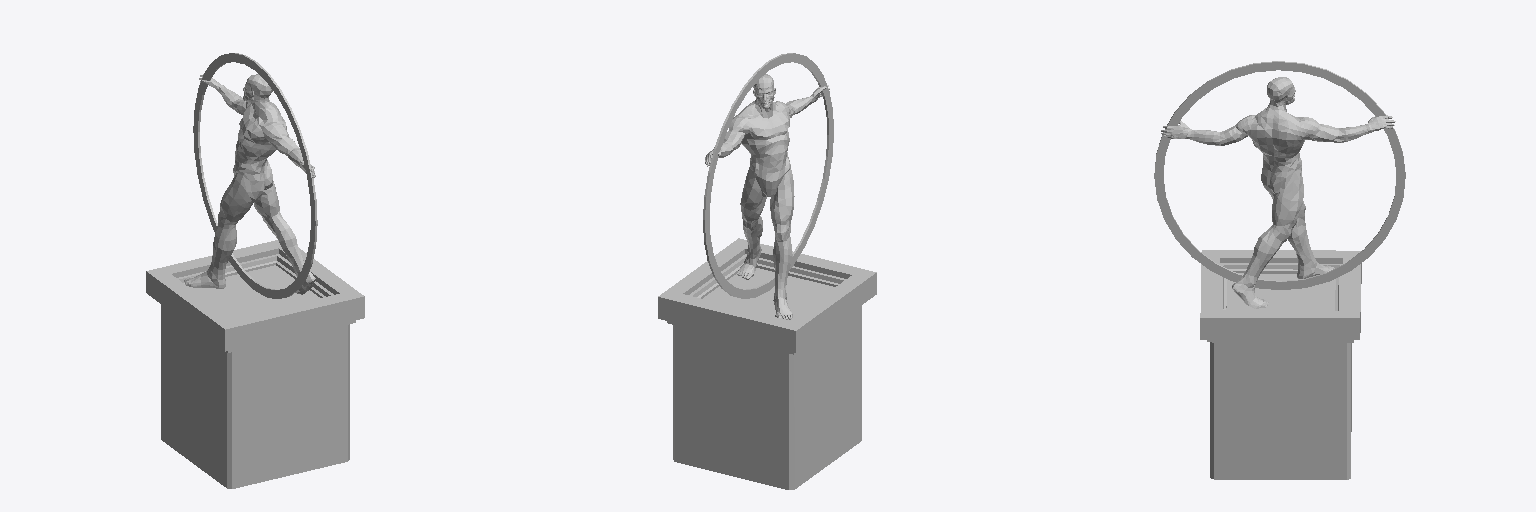
The model's file is Monument_test.obj.
3 renders of one model, left to right at view 1: azimuth 30°, elevation 25°; view 2: azimuth 150°, elevation 25°; view 3: azimuth 270°, elevation 25°, orthographic.
Parts seen in each view (by area): view 1: F3-Monumen_Mesh.014; view 2: F3-Monumen_Mesh.014; view 3: F3-Monumen_Mesh.014.
Part boxes in pixels (bbox=[...]): F3-Monumen_Mesh.014: bbox=[146, 53, 364, 488]; F3-Monumen_Mesh.014: bbox=[658, 53, 876, 489]; F3-Monumen_Mesh.014: bbox=[1154, 61, 1405, 479].
Bounding box in the file's own units: 0.9394 × 2.5 × 1.47.